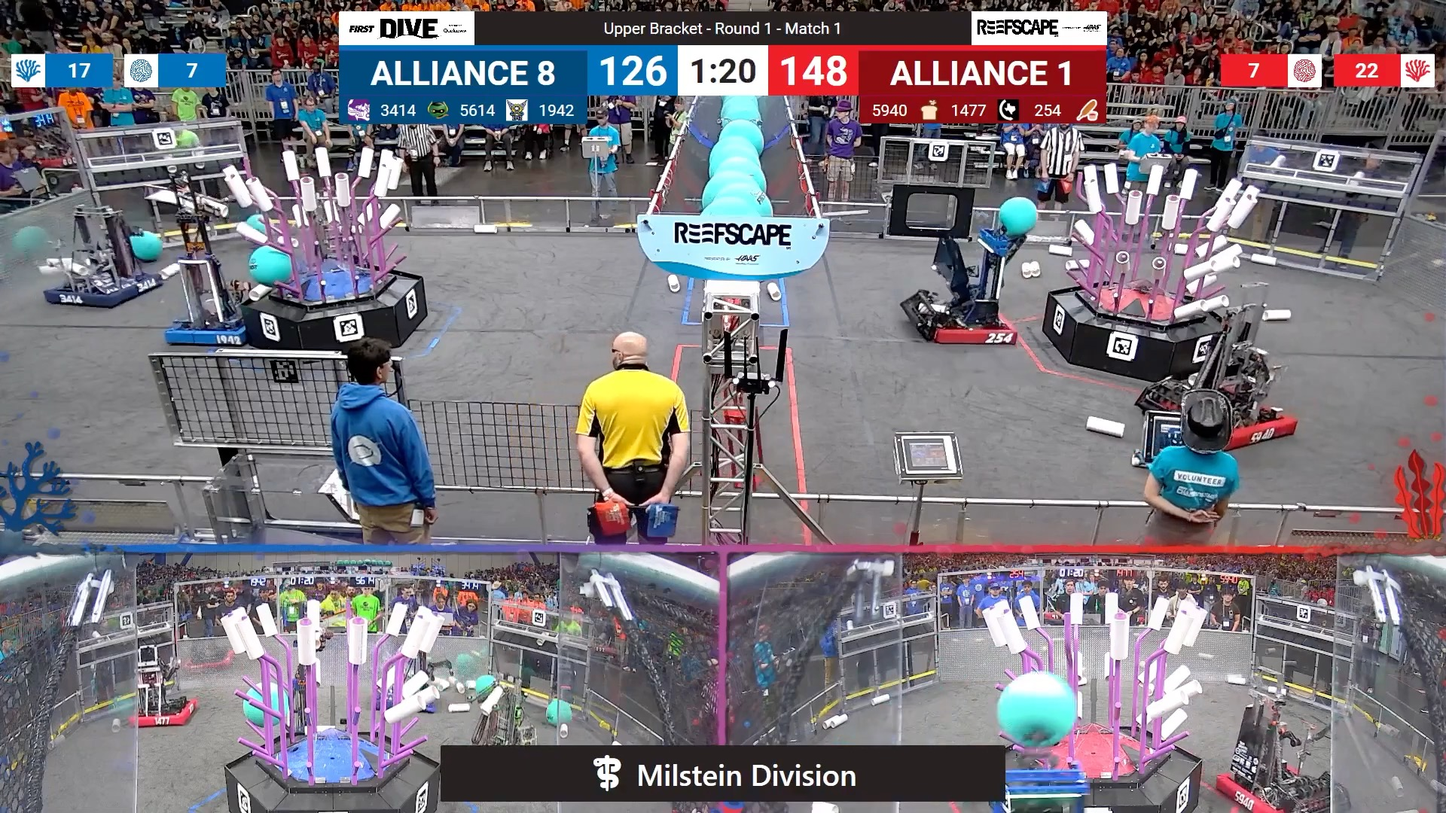bumpers: (1153, 383, 1308, 452), (902, 294, 1027, 355), (1204, 764, 1334, 813), (39, 269, 170, 315), (167, 306, 257, 352), (124, 695, 207, 733)
